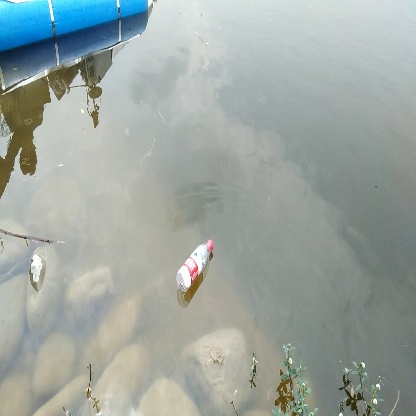bottle: (176, 238, 216, 293)
